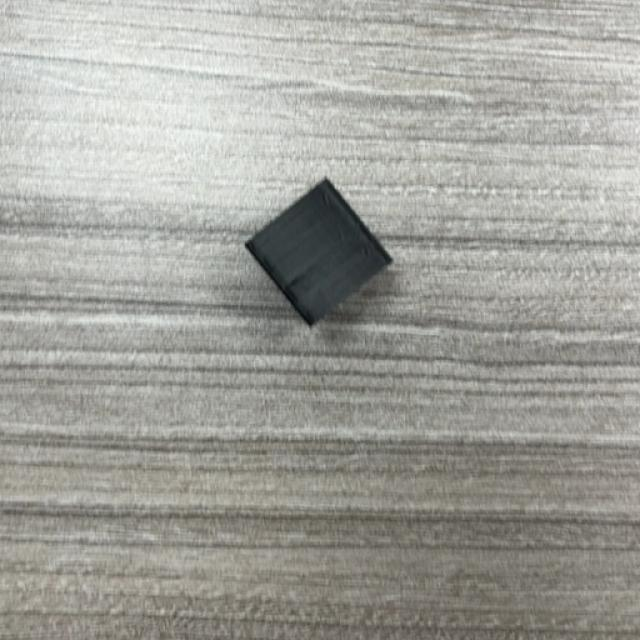Negro: (244, 179, 394, 328)
